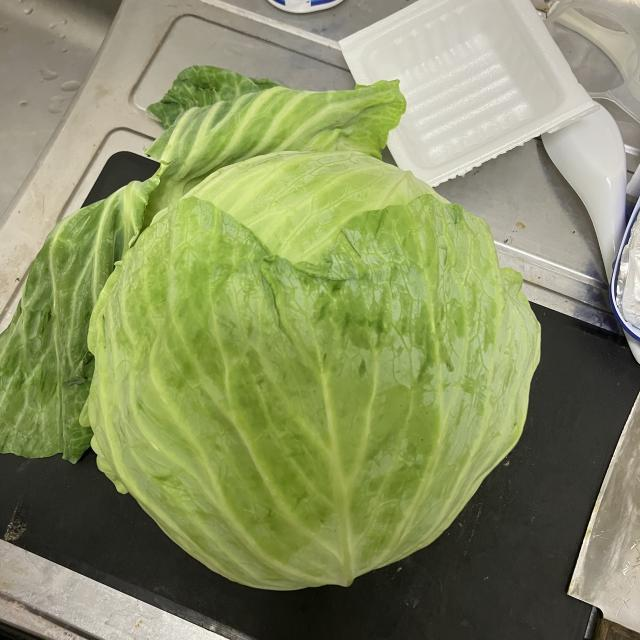cabbage: (79, 149, 547, 600)
